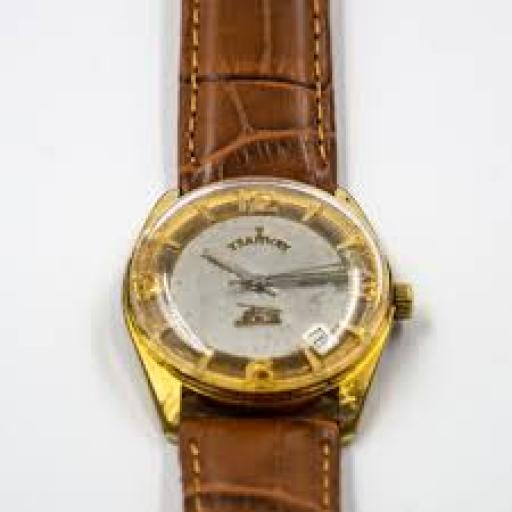KolSaati: (107, 0, 432, 512)
